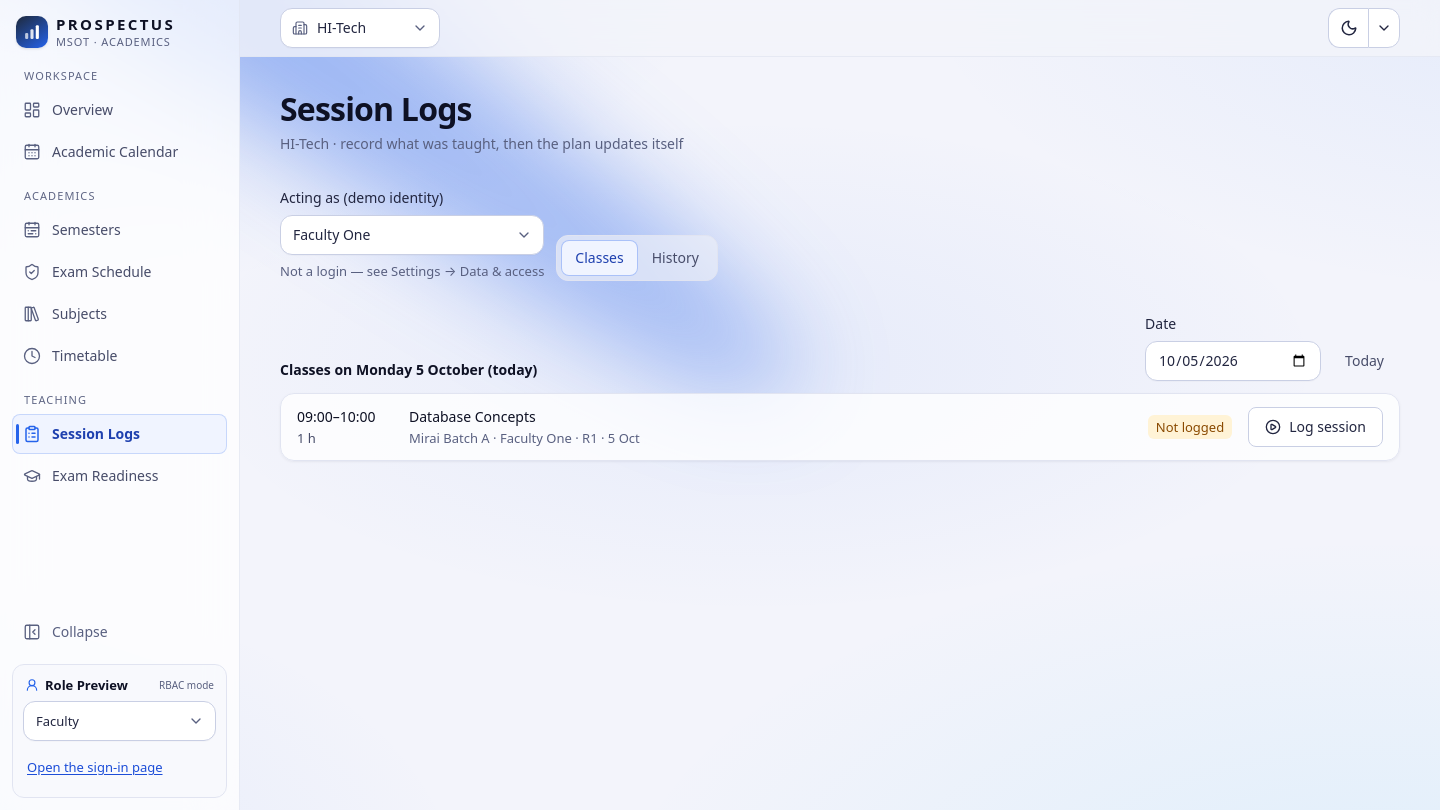
Test: smart carry-forward in the logging dialog › asks the API for the same subject and date, and shows each unfinished item with remaining work and its original date
Click the button with aria-label "Log session for Database Concepts, Mirai Batch A, 5 Oct": click(1316, 427) 1248,407 -> 1383,447
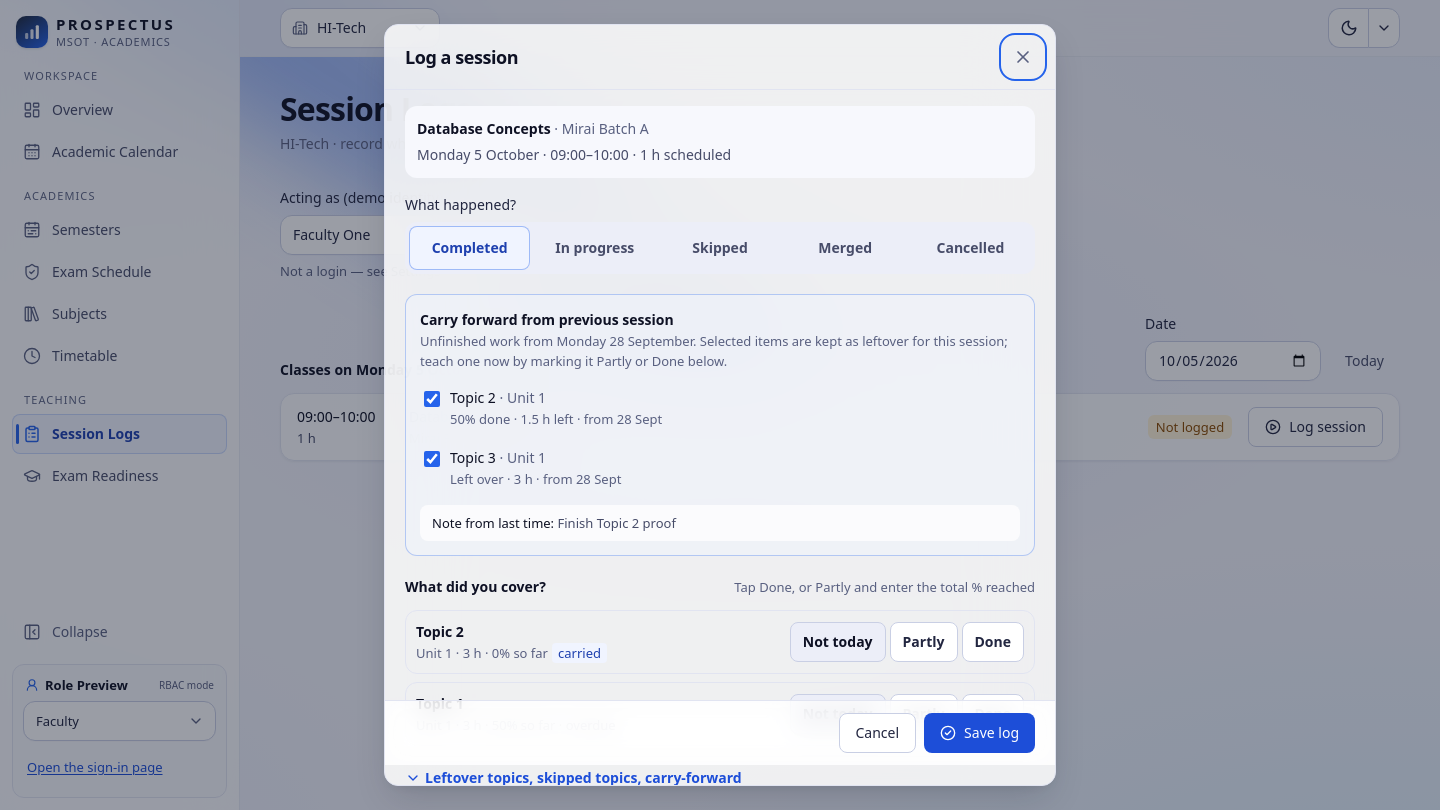
Check: the text "50% done · 1.5 h left · from 28 Sept" is shown, box 450,409 -> 662,429
Check: the text "Left over · 3 h · from 28 Sept" is shown, box 450,469 -> 621,489
Check: the text "Note from last time: Finish Topic 2 proof" is shown, box 420,505 -> 1020,541
